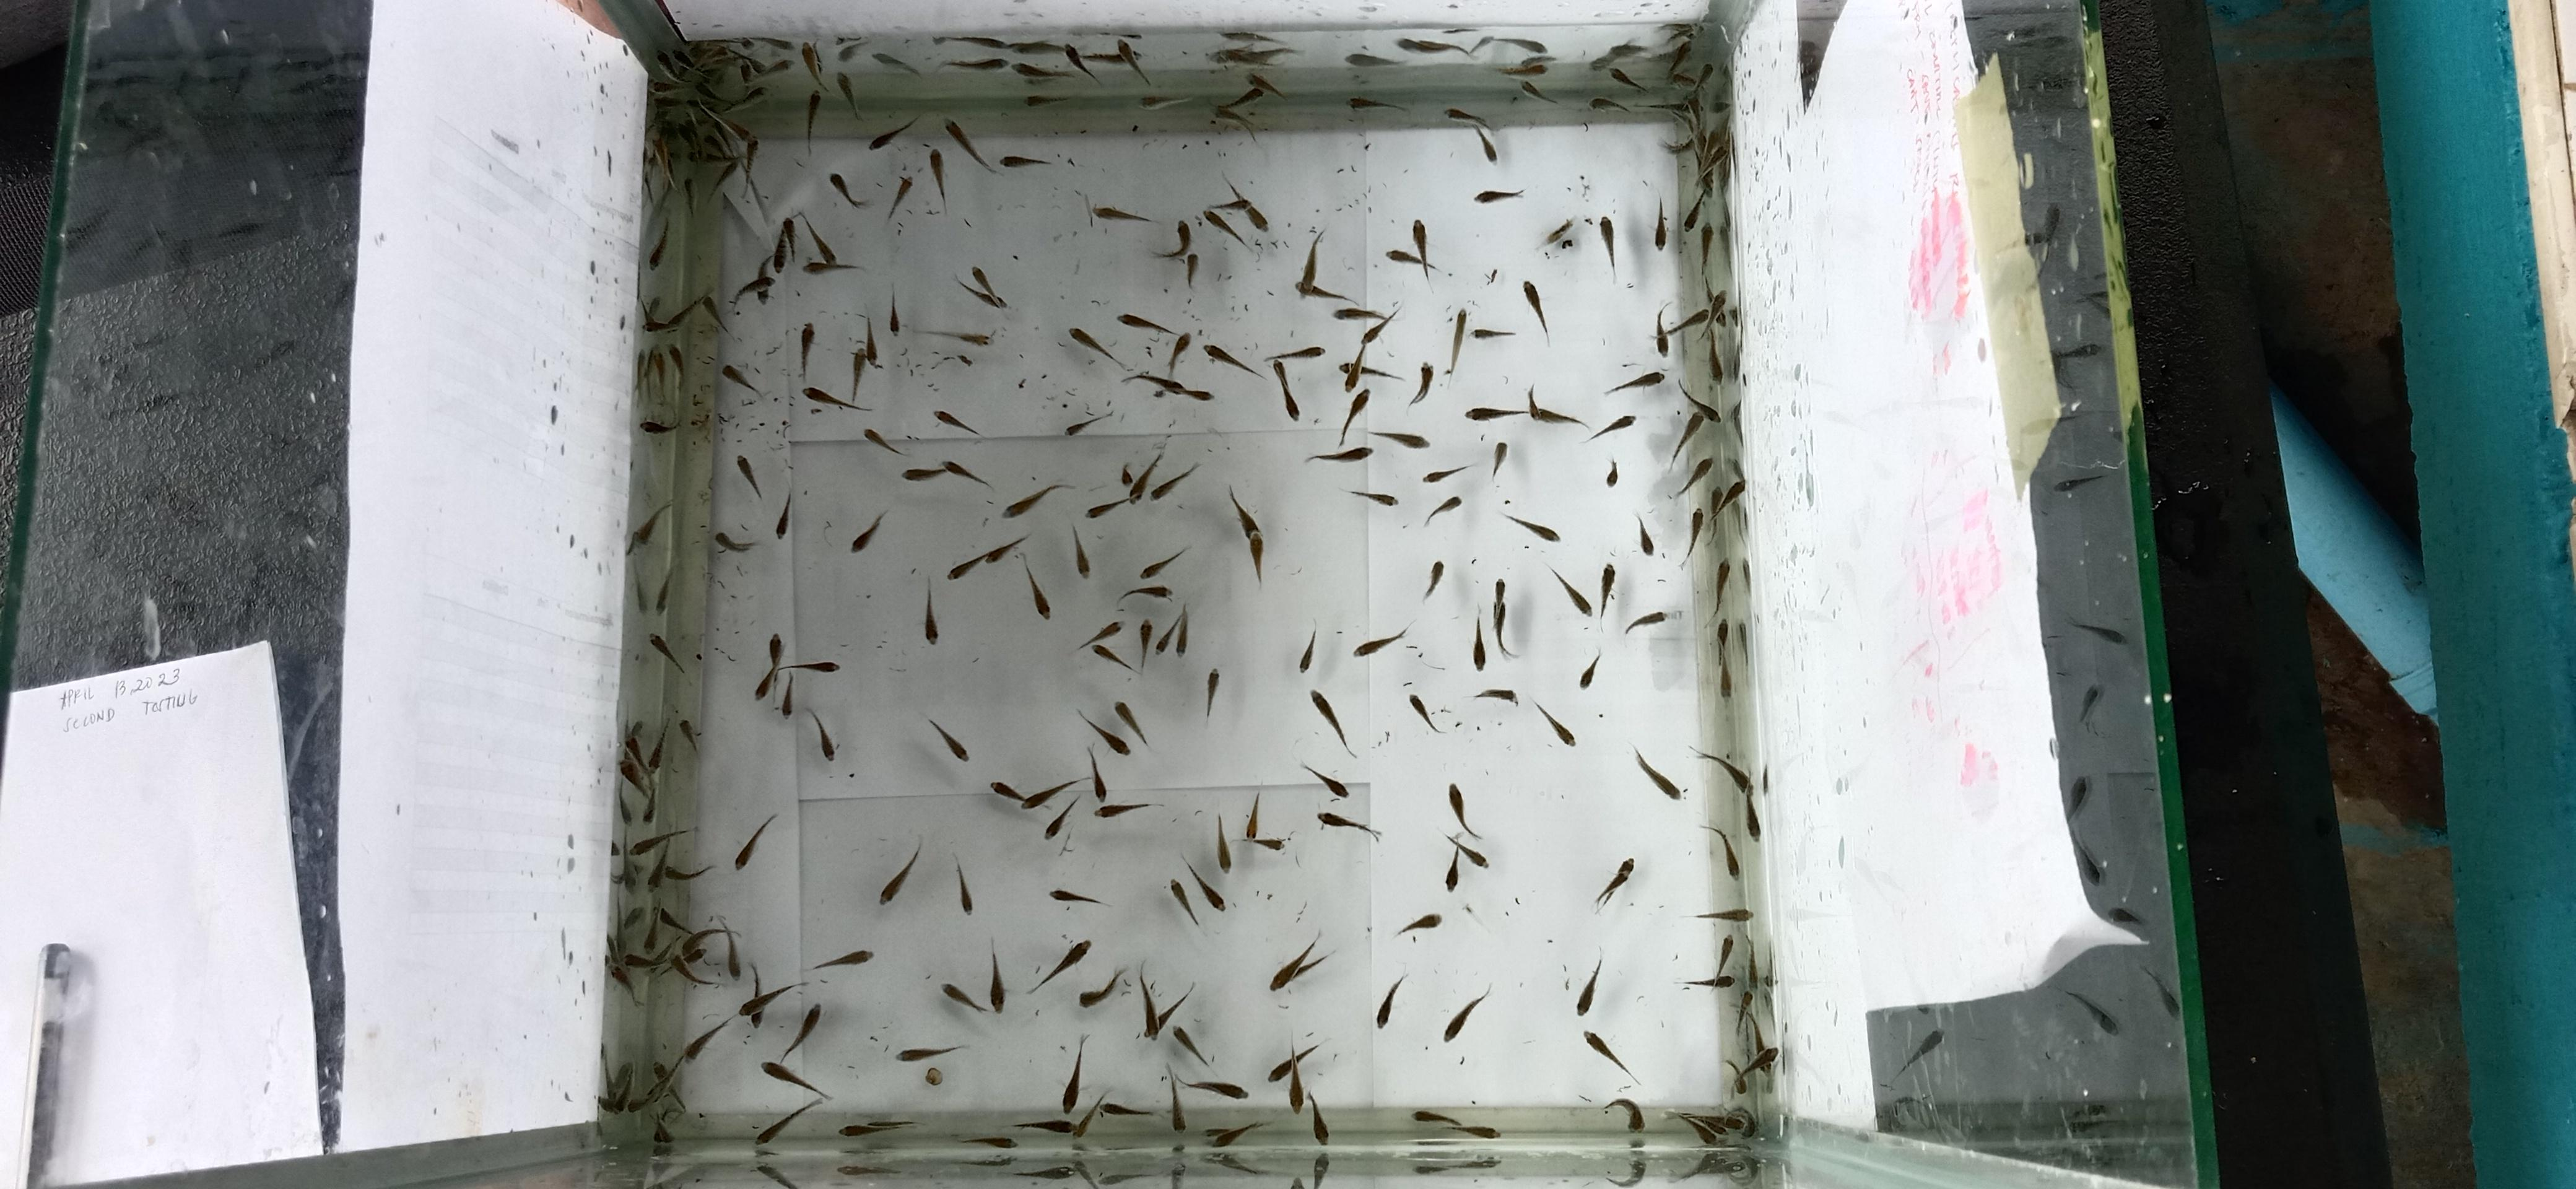fish: (990, 746, 1105, 838), (1079, 601, 1188, 677), (731, 217, 796, 307), (753, 633, 838, 701), (1464, 385, 1588, 429), (1086, 450, 1164, 519), (627, 826, 713, 887), (1022, 747, 1104, 810), (778, 671, 836, 760), (802, 348, 876, 414), (941, 940, 1006, 1015), (1013, 1092, 1113, 1138), (1267, 345, 1325, 422), (635, 343, 683, 433), (1267, 1035, 1322, 1112), (738, 965, 806, 1026), (1396, 35, 1546, 63), (1269, 931, 1335, 992), (947, 532, 1030, 580), (1077, 619, 1148, 675), (1227, 484, 1264, 586), (1422, 440, 1508, 484), (1294, 232, 1346, 302), (1138, 975, 1193, 1040), (625, 948, 718, 987), (618, 721, 663, 801), (1027, 938, 1091, 993), (801, 213, 861, 272), (1666, 1107, 1756, 1145), (1385, 219, 1438, 282), (1309, 689, 1356, 758), (1687, 745, 1753, 793), (753, 1099, 821, 1144), (896, 1043, 968, 1086), (877, 836, 921, 905), (1582, 1029, 1638, 1083), (1068, 325, 1131, 373), (1445, 107, 1499, 162), (848, 316, 882, 403), (1220, 172, 1269, 232), (1178, 851, 1226, 911), (1683, 934, 1736, 988), (1212, 88, 1264, 141), (1500, 58, 1559, 105), (761, 1060, 830, 1100), (739, 142, 772, 227), (1655, 304, 1708, 355), (1723, 1045, 1779, 1094), (943, 118, 993, 172), (1633, 746, 1682, 800), (1442, 834, 1489, 891), (1123, 372, 1213, 402), (1001, 482, 1073, 519), (1678, 142, 1707, 230), (635, 1058, 683, 1111), (733, 812, 778, 870), (598, 1048, 637, 1113), (1201, 207, 1254, 255), (1443, 987, 1489, 1042), (1076, 710, 1131, 756), (1413, 1108, 1498, 1138), (1243, 793, 1286, 850), (1526, 386, 1586, 427), (1203, 342, 1264, 380), (1121, 450, 1164, 504), (626, 502, 671, 554), (1337, 356, 1404, 391), (955, 265, 1006, 309), (1548, 566, 1591, 618), (1338, 337, 1378, 392), (1077, 965, 1130, 1008), (732, 256, 777, 306), (1699, 824, 1741, 876), (682, 1016, 729, 1062), (1061, 1034, 1088, 1113), (781, 1003, 822, 1057), (931, 34, 1055, 51), (1492, 578, 1519, 659), (869, 113, 925, 150), (1595, 856, 1635, 908), (1149, 462, 1202, 502), (1532, 699, 1575, 746), (1670, 411, 1709, 464), (628, 827, 694, 858), (753, 634, 783, 700), (1447, 782, 1482, 839), (1070, 1091, 1112, 1138), (639, 295, 692, 333), (1152, 604, 1188, 657), (1270, 359, 1301, 421), (1170, 1024, 1214, 1068), (926, 716, 968, 762), (803, 386, 873, 413), (1337, 387, 1371, 443), (1112, 699, 1151, 749), (1227, 484, 1262, 538), (1020, 778, 1079, 810), (1317, 811, 1381, 840), (1300, 761, 1349, 799), (1210, 43, 1295, 65), (1043, 793, 1081, 840), (1203, 1120, 1269, 1147), (1500, 512, 1559, 542), (1671, 456, 1714, 497), (1116, 37, 1153, 85), (1678, 379, 1720, 421), (1521, 279, 1549, 342), (1023, 556, 1051, 619), (606, 952, 640, 1004), (1352, 626, 1408, 658), (1588, 41, 1648, 70), (1574, 954, 1603, 1014), (1360, 303, 1401, 346), (850, 508, 888, 553), (908, 327, 993, 347), (1385, 246, 1437, 279), (1669, 32, 1700, 86), (738, 963, 767, 1020), (1295, 234, 1321, 296), (1167, 878, 1199, 928), (1152, 219, 1192, 261), (1375, 975, 1406, 1029), (798, 91, 820, 164), (941, 982, 990, 1014), (701, 293, 736, 338), (1062, 43, 1101, 84), (647, 632, 685, 674), (1140, 545, 1188, 578), (1163, 1070, 1188, 1133), (1604, 370, 1665, 396), (1397, 37, 1473, 57), (1445, 308, 1468, 375), (829, 171, 869, 209), (1471, 35, 1547, 56), (619, 754, 653, 799), (668, 956, 718, 986), (1090, 643, 1138, 674), (1713, 618, 1731, 698), (1604, 1097, 1645, 1133), (1184, 1078, 1247, 1100), (1064, 407, 1114, 436), (741, 140, 762, 206), (944, 459, 992, 489), (720, 83, 768, 113), (1139, 974, 1160, 1040), (1410, 219, 1435, 276), (808, 710, 835, 760), (925, 145, 946, 211), (1588, 413, 1635, 442), (1216, 88, 1261, 118), (657, 905, 699, 938), (770, 217, 795, 271), (1116, 312, 1175, 335), (885, 174, 913, 222), (1682, 508, 1705, 565), (811, 947, 872, 969), (987, 942, 1006, 1013), (835, 71, 863, 120), (840, 1119, 915, 1136), (1712, 478, 1746, 516), (1305, 1092, 1330, 1144), (1408, 692, 1439, 733), (1079, 620, 1122, 650), (934, 408, 979, 437), (721, 362, 759, 396), (896, 1044, 967, 1062), (1304, 445, 1373, 463), (619, 902, 651, 942), (1543, 217, 1577, 253), (871, 52, 921, 77), (954, 853, 974, 914), (862, 427, 903, 457), (1093, 203, 1152, 224), (1368, 430, 1429, 450), (1117, 585, 1172, 607), (1598, 215, 1616, 280), (1165, 330, 1193, 374), (660, 861, 712, 884), (721, 923, 743, 978), (1425, 494, 1462, 526), (735, 455, 762, 499), (1214, 812, 1234, 873), (1408, 362, 1434, 406), (1721, 1106, 1757, 1138), (800, 41, 825, 86), (741, 58, 791, 80), (1086, 746, 1106, 803), (646, 220, 669, 269), (1396, 912, 1441, 937), (1011, 60, 1064, 81), (1713, 559, 1732, 617), (1598, 562, 1616, 622), (1295, 280, 1347, 301), (713, 529, 757, 554), (1048, 887, 1105, 906), (1094, 801, 1158, 817), (1086, 497, 1133, 519), (1247, 70, 1284, 98), (665, 342, 684, 399), (1712, 934, 1735, 978), (923, 577, 939, 644), (848, 349, 868, 401), (1071, 525, 1090, 579), (1519, 79, 1559, 105), (803, 258, 861, 276), (1100, 1099, 1159, 1117), (1610, 66, 1648, 92), (1347, 95, 1407, 112), (862, 316, 881, 368), (931, 35, 1007, 48), (1268, 345, 1325, 362), (1344, 50, 1399, 68), (941, 57, 1006, 72), (1469, 612, 1486, 670), (1625, 610, 1666, 633), (1247, 529, 1264, 586), (1422, 464, 1471, 483), (1413, 1108, 1462, 1127), (835, 35, 868, 64), (1348, 488, 1398, 507), (1464, 406, 1524, 422), (753, 663, 778, 700), (1243, 793, 1263, 840), (1743, 795, 1762, 840), (990, 780, 1027, 804), (1138, 92, 1189, 109), (1462, 902, 1489, 936), (1334, 303, 1383, 321), (1654, 305, 1671, 355), (1578, 651, 1601, 689), (1695, 907, 1754, 921), (1475, 127, 1499, 164), (1423, 559, 1444, 600), (677, 717, 701, 753), (1217, 27, 1277, 41), (799, 322, 814, 377), (1745, 936, 1760, 991), (1653, 198, 1669, 251), (1204, 667, 1220, 720), (1074, 188, 1095, 229), (1411, 650, 1450, 671), (634, 348, 651, 396), (1500, 59, 1548, 77), (1136, 619, 1154, 667), (902, 464, 947, 482), (1297, 627, 1315, 672), (1338, 357, 1360, 393), (773, 492, 791, 539), (1012, 1118, 1074, 1131), (1119, 461, 1139, 501), (1445, 107, 1487, 126), (999, 154, 1052, 168), (1473, 688, 1518, 705), (929, 353, 973, 370), (1683, 974, 1734, 989), (1636, 513, 1654, 555), (655, 569, 672, 612), (1474, 189, 1525, 203), (1490, 440, 1508, 481), (1443, 848, 1460, 891), (765, 632, 784, 669), (1247, 833, 1286, 851), (639, 416, 678, 434), (1022, 93, 1069, 108), (779, 673, 794, 717), (1386, 248, 1423, 266), (887, 285, 901, 335), (1008, 39, 1056, 53), (960, 1138, 1016, 1148), (1183, 250, 1199, 286), (794, 660, 839, 672), (1662, 137, 1695, 154), (1590, 97, 1628, 111), (1472, 327, 1514, 339), (923, 1065, 944, 1086), (1605, 458, 1619, 487)
